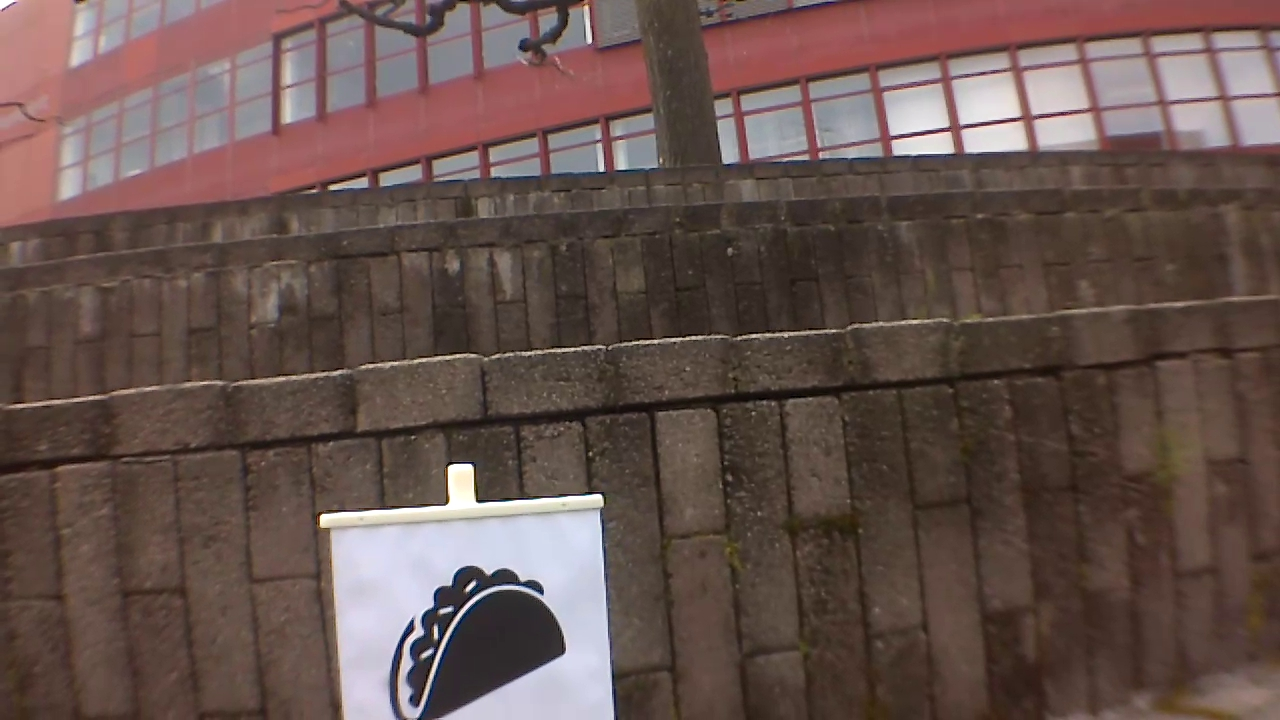taco: (378, 559, 576, 719)
